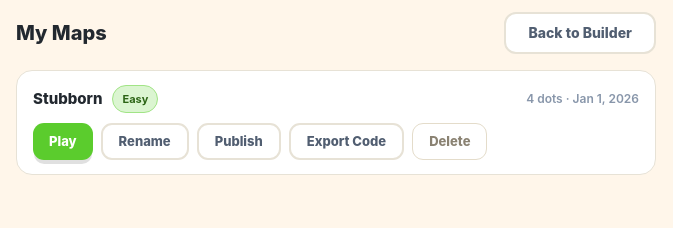
Test case: PathfinderMyMaps › says why a change failed and keeps the list
Expected: the text "Stubborn" is shown, [33, 89, 102, 109]
Click the button with aria-label "Publish Stubborn" at (239, 142), box [197, 123, 281, 160]
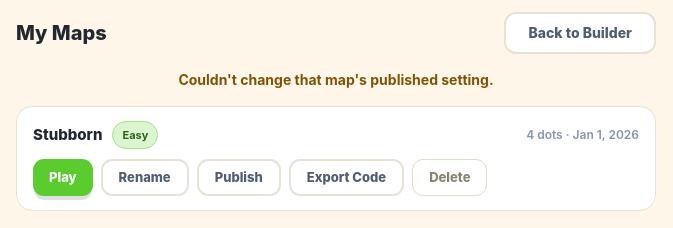
Expected: the text "Stubborn" is shown, [33, 125, 102, 145]
Result: the message reads "Couldn't change that map's published setting." at [178, 71, 494, 88]
